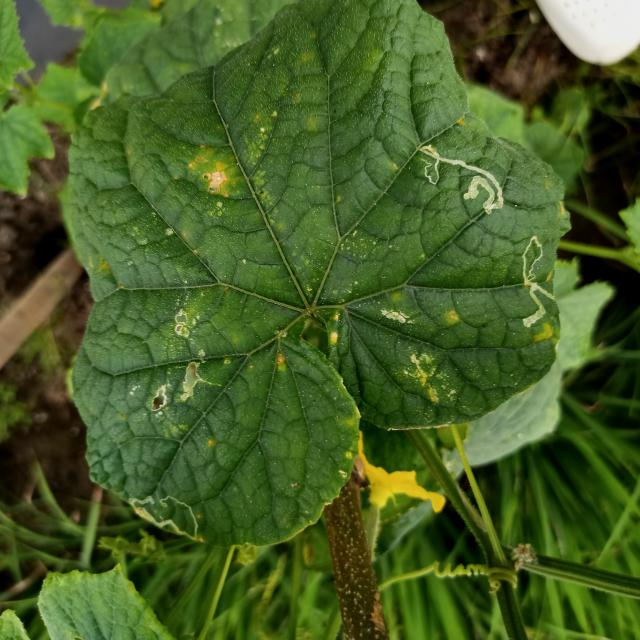disease_cucumber: (140, 297, 211, 418), (398, 345, 455, 406), (176, 146, 237, 203), (374, 303, 419, 332), (535, 319, 559, 347), (329, 312, 346, 344), (272, 348, 289, 368), (554, 198, 568, 222), (444, 309, 460, 325)
